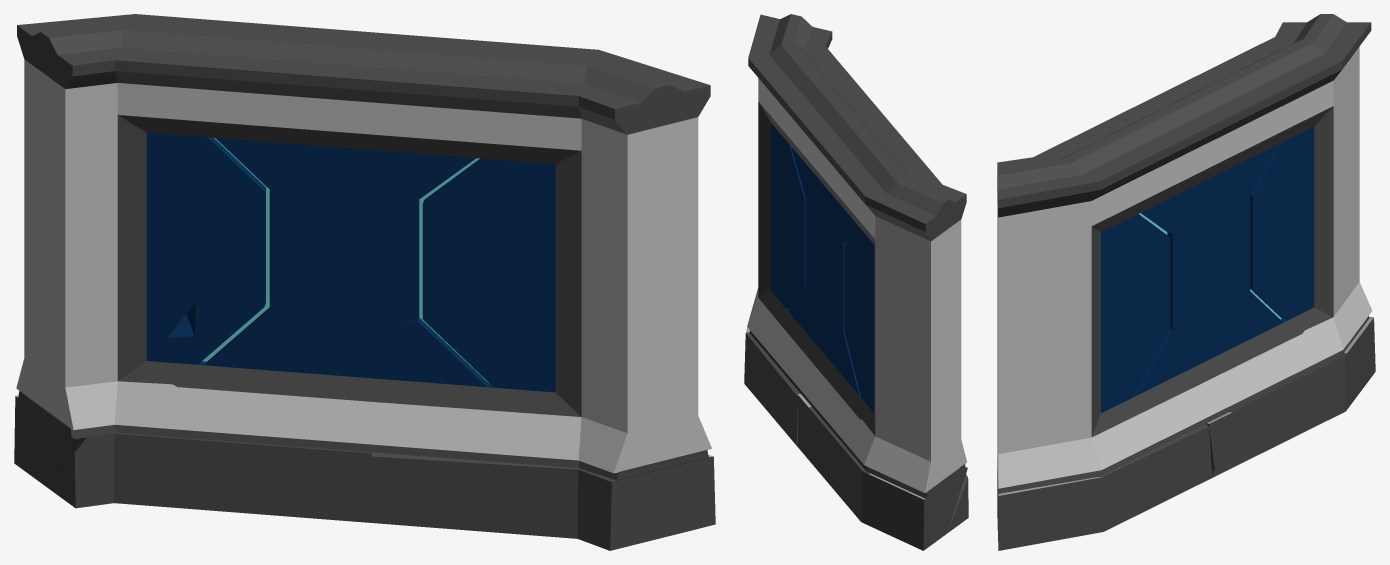
File: Corner_Wall_Broken.fbx
3 renders of one model, left to right at view 1: azimuth 30°, elevation 25°; view 2: azimuth 150°, elevation 25°; view 3: azimuth 270°, elevation 25°, orthographic. The views are drawn at different scales.
Visible parts, largest first — view 1: Corner_WallPiece1, Corner_WallPiece2, Corner_WallPiece7, Corner_WallPiece3, Corner_WallPiece6, Corner_WallPiece4, Corner_WallPiece, Corner_WallPiece5, Corner_WallPiece9, Corner_WallPiece8; view 2: Corner_WallPiece4, Corner_WallPiece, Corner_WallPiece1, Corner_WallPiece2, Corner_WallPiece6, Corner_WallPiece7, Corner_WallPiece5, Corner_WallPiece3, Corner_WallPiece8, Corner_WallPiece9; view 3: Corner_WallPiece2, Corner_WallPiece1, Corner_WallPiece3, Corner_WallPiece7, Corner_WallPiece9, Corner_WallPiece6, Corner_WallPiece5, Corner_WallPiece4, Corner_WallPiece, Corner_WallPiece8.
Part boxes in pixels (left/top/right/bottom): Corner_WallPiece1: left=115, top=14, right=446, bottom=218; Corner_WallPiece2: left=410, top=38, right=710, bottom=223; Corner_WallPiece7: left=361, top=316, right=581, bottom=538; Corner_WallPiece3: left=393, top=198, right=698, bottom=360; Corner_WallPiece6: left=46, top=314, right=348, bottom=521; Corner_WallPiece4: left=14, top=219, right=222, bottom=486; Corner_WallPiece: left=17, top=14, right=193, bottom=257; Corner_WallPiece5: left=186, top=175, right=413, bottom=336; Corner_WallPiece9: left=555, top=331, right=715, bottom=550; Corner_WallPiece8: left=258, top=322, right=393, bottom=521; Corner_WallPiece4: left=852, top=286, right=967, bottom=550; Corner_WallPiece: left=860, top=182, right=966, bottom=374; Corner_WallPiece1: left=786, top=89, right=942, bottom=285; Corner_WallPiece2: left=748, top=14, right=864, bottom=199; Corner_WallPiece6: left=797, top=349, right=968, bottom=537; Corner_WallPiece7: left=744, top=246, right=813, bottom=445; Corner_WallPiece5: left=806, top=180, right=867, bottom=387; Corner_WallPiece3: left=758, top=143, right=811, bottom=297; Corner_WallPiece8: left=797, top=298, right=843, bottom=440; Corner_WallPiece9: left=746, top=244, right=770, bottom=332; Corner_WallPiece2: left=997, top=117, right=1180, bottom=287; Corner_WallPiece1: left=1114, top=37, right=1342, bottom=212; Corner_WallPiece3: left=997, top=232, right=1184, bottom=396; Corner_WallPiece7: left=1091, top=328, right=1212, bottom=531; Corner_WallPiece9: left=997, top=365, right=1103, bottom=550; Corner_WallPiece6: left=1212, top=292, right=1362, bottom=477; Corner_WallPiece5: left=1173, top=203, right=1299, bottom=327; Corner_WallPiece4: left=1269, top=189, right=1375, bottom=388; Corner_WallPiece: left=1275, top=14, right=1371, bottom=203; Corner_WallPiece8: left=1184, top=310, right=1249, bottom=470.
Size of the model in its own units: 5.51 by 4.91 by 5.12.
